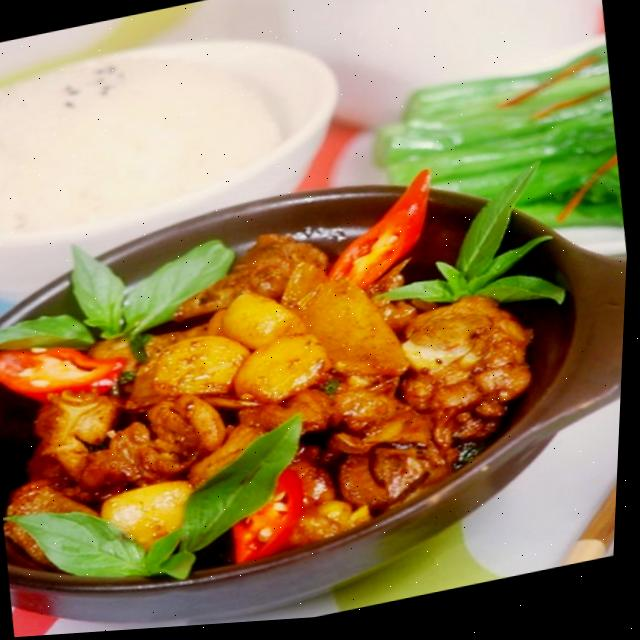鸡肉料理 含炸鸡: (0, 122, 545, 619)
